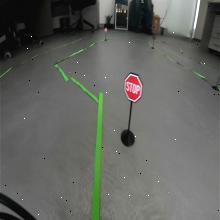stop: (123, 72, 143, 102)
